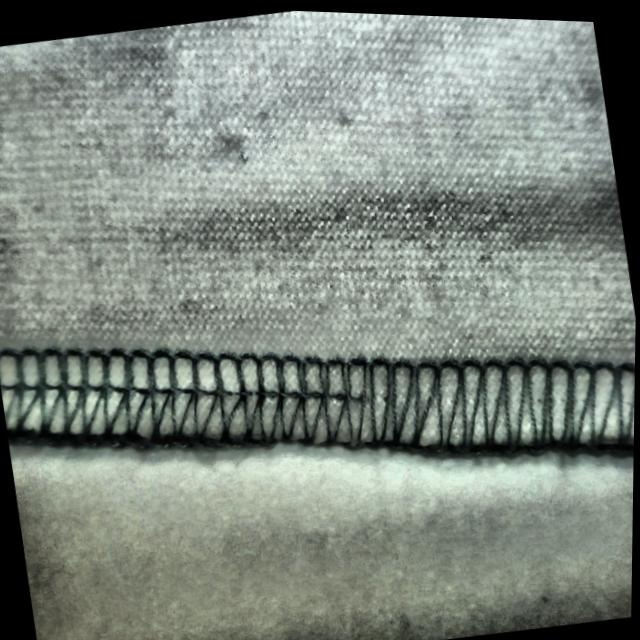Stitch: (107, 285, 588, 515)
